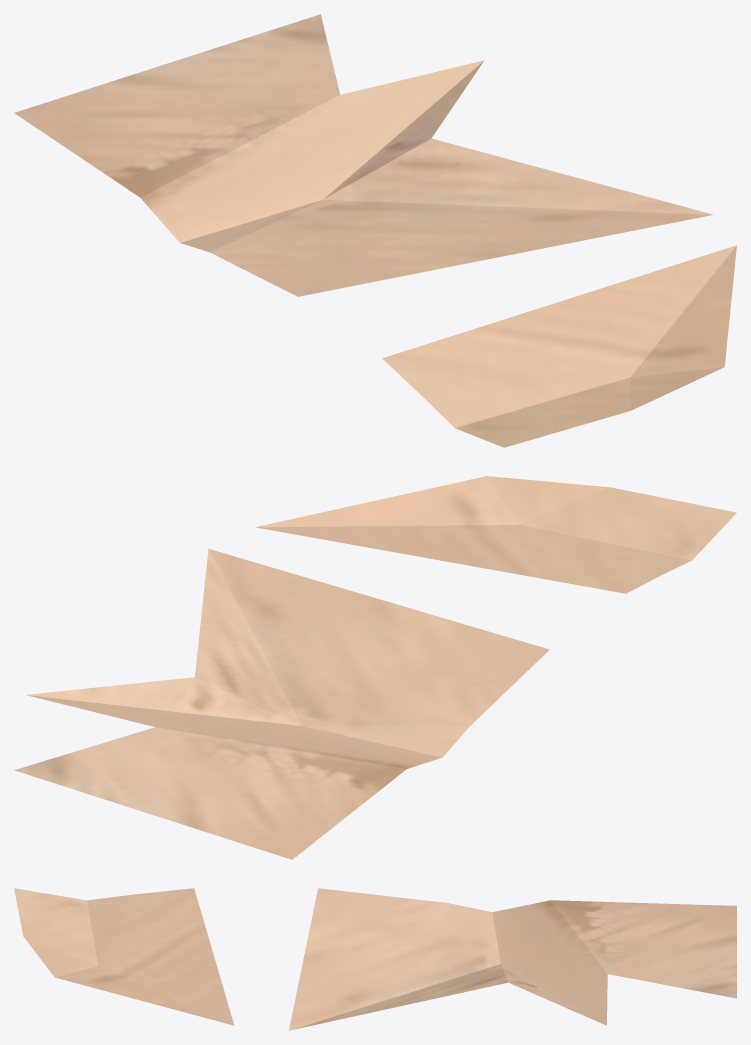
3 views of the same model, one above another, from view 1: azimuth 30°, elevation 25°; view 2: azimuth 150°, elevation 25°; view 3: azimuth 270°, elevation 25° (orthographic). The views are drawn at different scales.
Bounding box in the file's own units: 0.1332 × 0.0105 × 0.2854.
1 material, 1 textured.
